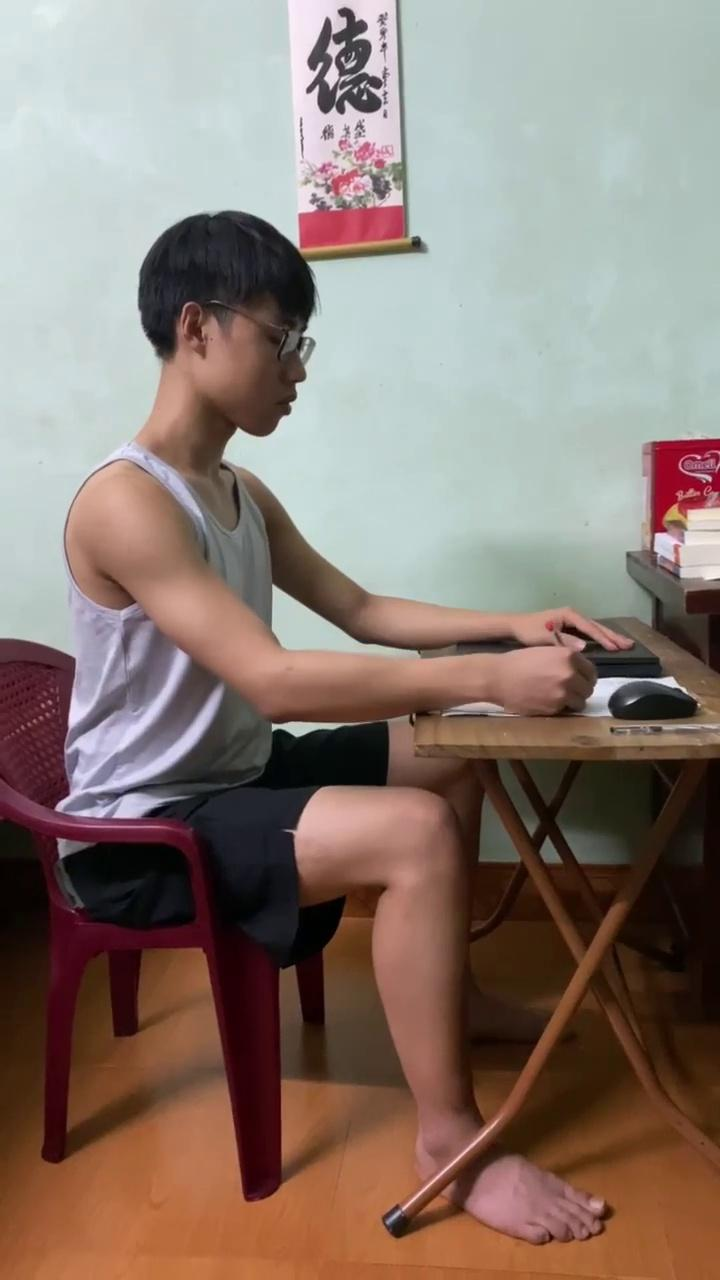GoodPosture: (61, 210, 623, 1177)
